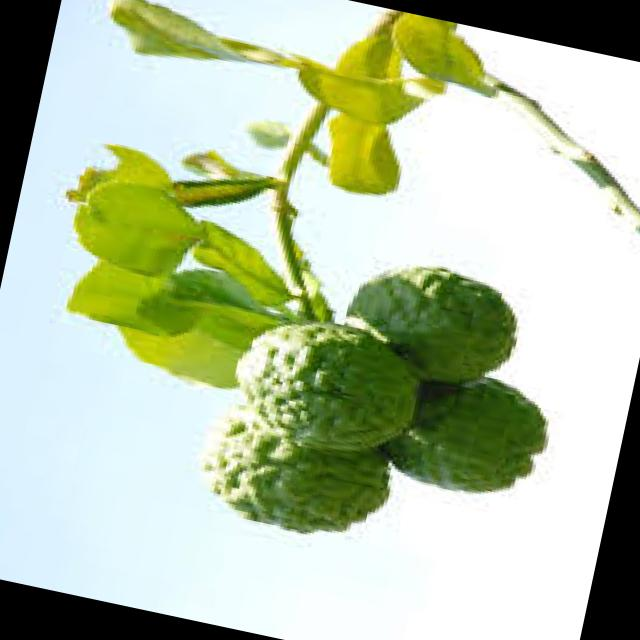Chuc: (220, 300, 432, 464), (186, 396, 400, 548), (333, 246, 525, 394), (376, 356, 554, 506)
